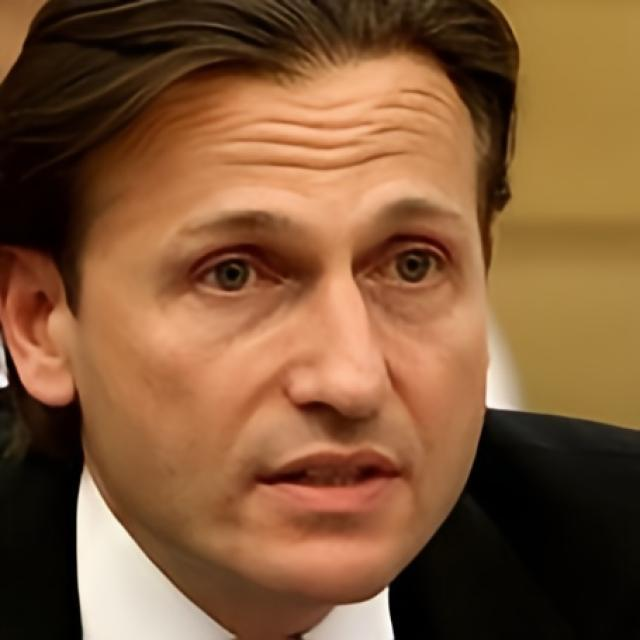surprise: (76, 33, 491, 608)
